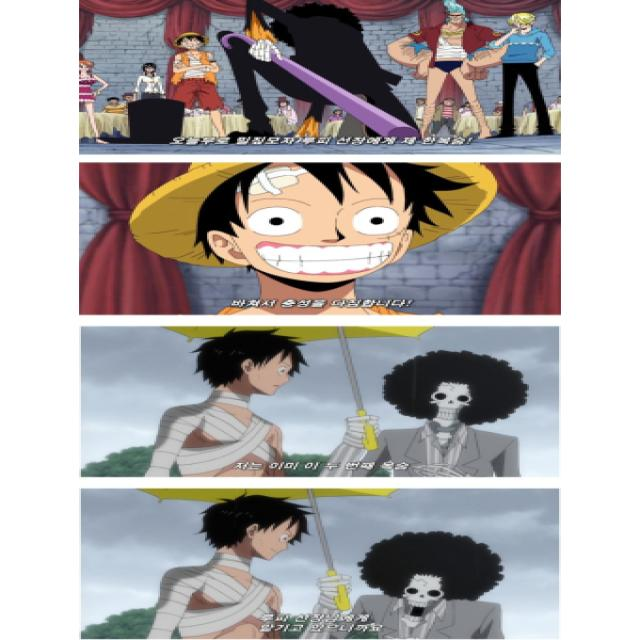Blook: (351, 522, 535, 630), (368, 344, 540, 434)
Franky: (431, 0, 472, 25)
Luffy: (118, 152, 495, 300), (189, 331, 316, 407), (188, 499, 306, 573), (170, 28, 223, 53)
Nami: (72, 60, 101, 74)
NicoRobin: (140, 60, 161, 76)
Sangdi: (503, 12, 552, 34)
